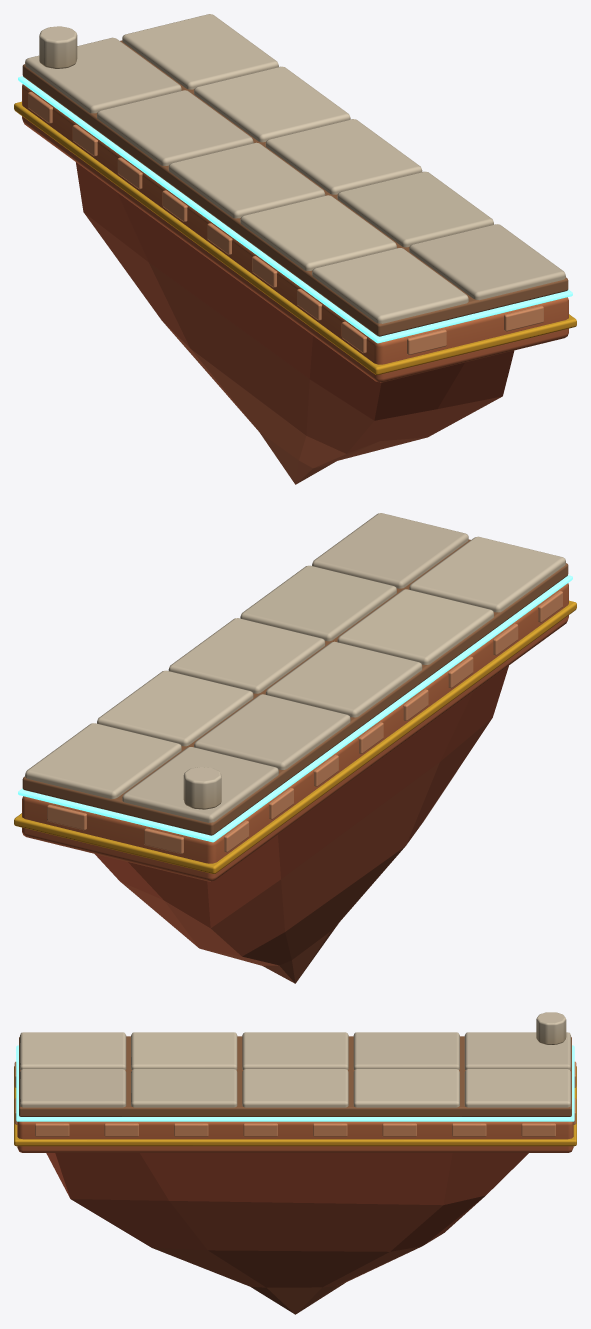
Rendered from PLAT_Ruin_Strip.glb.
The picture shows the model from 3 angles, top to bottom: view 1: azimuth 30°, elevation 25°; view 2: azimuth 150°, elevation 25°; view 3: azimuth 270°, elevation 25°; orthographic projection. The views are drawn at different scales.
Parts seen in each view (by area): view 1: Stone, EdgeGlow; view 2: Stone, EdgeGlow; view 3: Stone, EdgeGlow.
Boxes of the visible parts, x1,y1,x2,y2 form: Stone: (14,14,576,484); EdgeGlow: (18,76,572,343); Stone: (14,513,576,983); EdgeGlow: (18,575,572,842); Stone: (14,1012,576,1314); EdgeGlow: (16,1045,574,1121).
Size of the model in its own units: 2.6 by 4.28 by 8.1.
